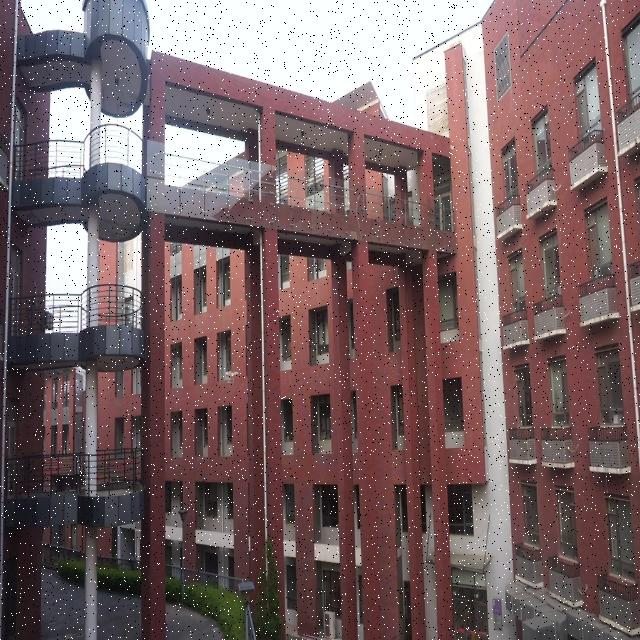UAV: (225, 371, 239, 384)
